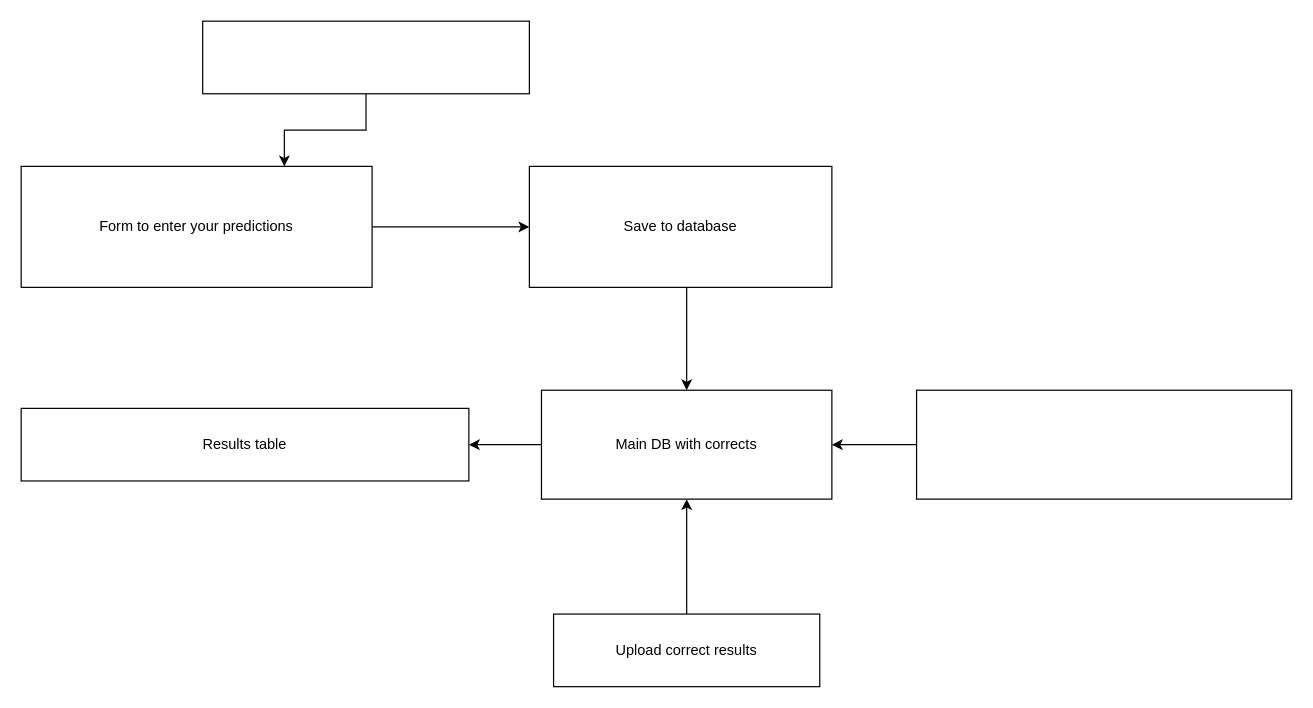
The diagram is 1313 pixels wide and 708 high, and some of its shapes have lost their labels. Each missing label, with the centre of its shape:
GAME_ID,: (1103,444)
Simple loginas to access your data: (365,57)
